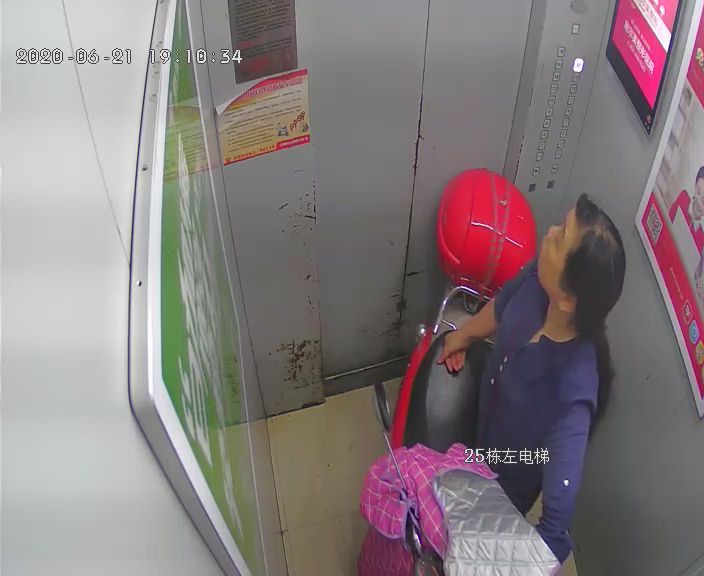Electric-bicycle: (370, 170, 553, 572)
